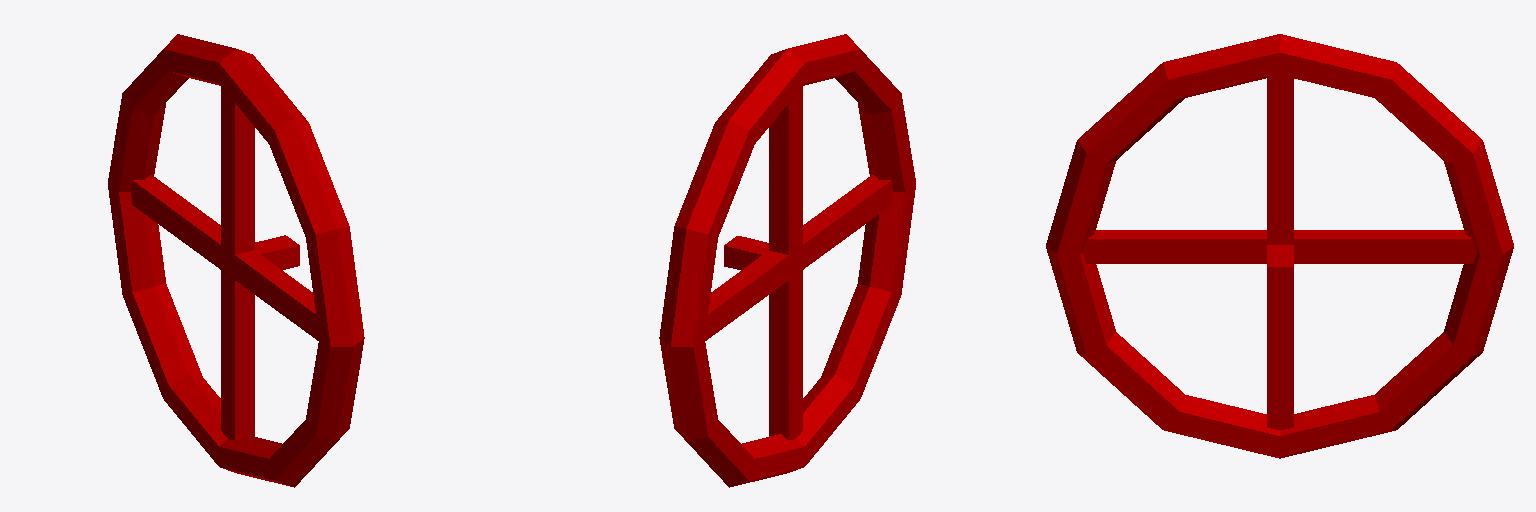
The model's file is handwheel.obj.
The picture shows the model from 3 angles: view 1: azimuth 30°, elevation 25°; view 2: azimuth 150°, elevation 25°; view 3: azimuth 270°, elevation 25°; orthographic projection.
Visible parts, largest first — view 1: __, ___, ___.1, ___.2; view 2: __, ___, ___.1, ___.2; view 3: __, ___.1, ___, ___.2.
Boxes of the visible parts, <box> form: __: <box>108,34,364,487</box>; ___: <box>221,86,254,440</box>; ___.1: <box>131,175,318,340</box>; ___.2: <box>255,235,299,269</box>; __: <box>659,34,915,487</box>; ___: <box>769,86,802,440</box>; ___.1: <box>705,175,892,340</box>; ___.2: <box>724,236,768,269</box>; __: <box>1046,34,1513,458</box>; ___.1: <box>1083,230,1476,263</box>; ___: <box>1267,74,1293,429</box>; ___.2: <box>1267,245,1293,287</box>.
Size of the model in its own units: 18.18 by 99.92 by 99.92.